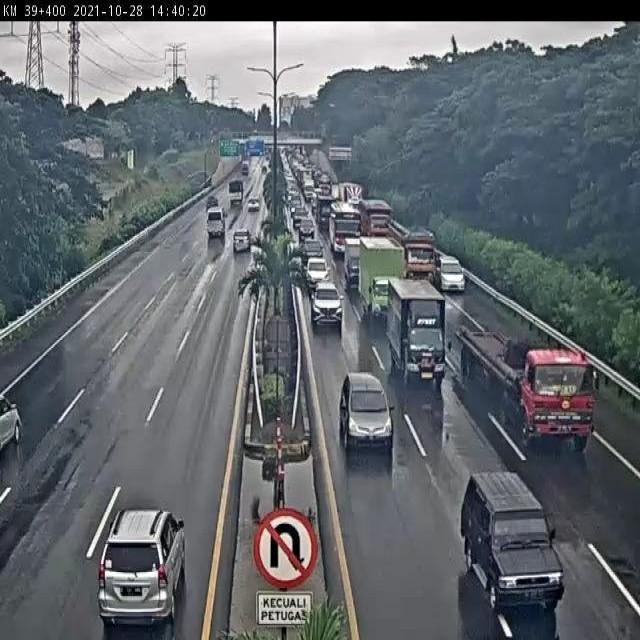car: (459, 466, 565, 606), (99, 507, 188, 625), (338, 371, 395, 456), (438, 248, 469, 292), (311, 281, 342, 324), (305, 255, 331, 289), (229, 233, 250, 259)
small bus: (205, 206, 225, 242)
truck-l-: (385, 222, 438, 282)
truck-m-: (390, 280, 448, 385), (359, 233, 405, 320)
truck-s-: (343, 237, 361, 284)
truck-xl-: (460, 321, 593, 440)
